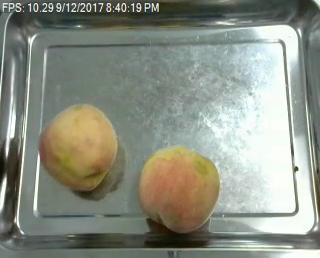Peach: (138, 143, 221, 233), (39, 102, 118, 190)
